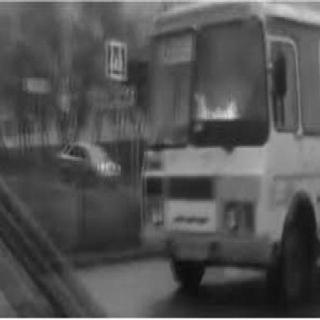Smoke: (13, 14, 196, 146)
